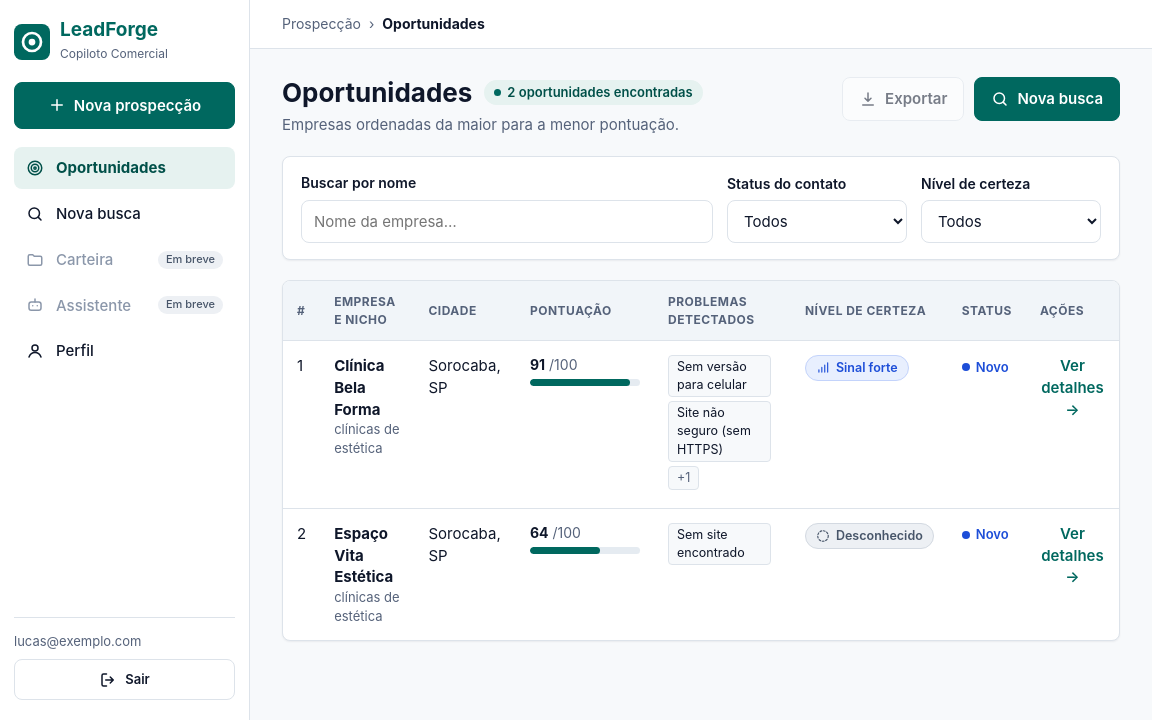
it: tela Oportunidades › abre o detalhe com as evidências e o aviso sobre itens desconhecidos
Step 1. Click the button with aria-label "Ver detalhes de Espaço Vita Estética" → (1072, 555), box top-left (1040, 523), bottom-right (1105, 588)
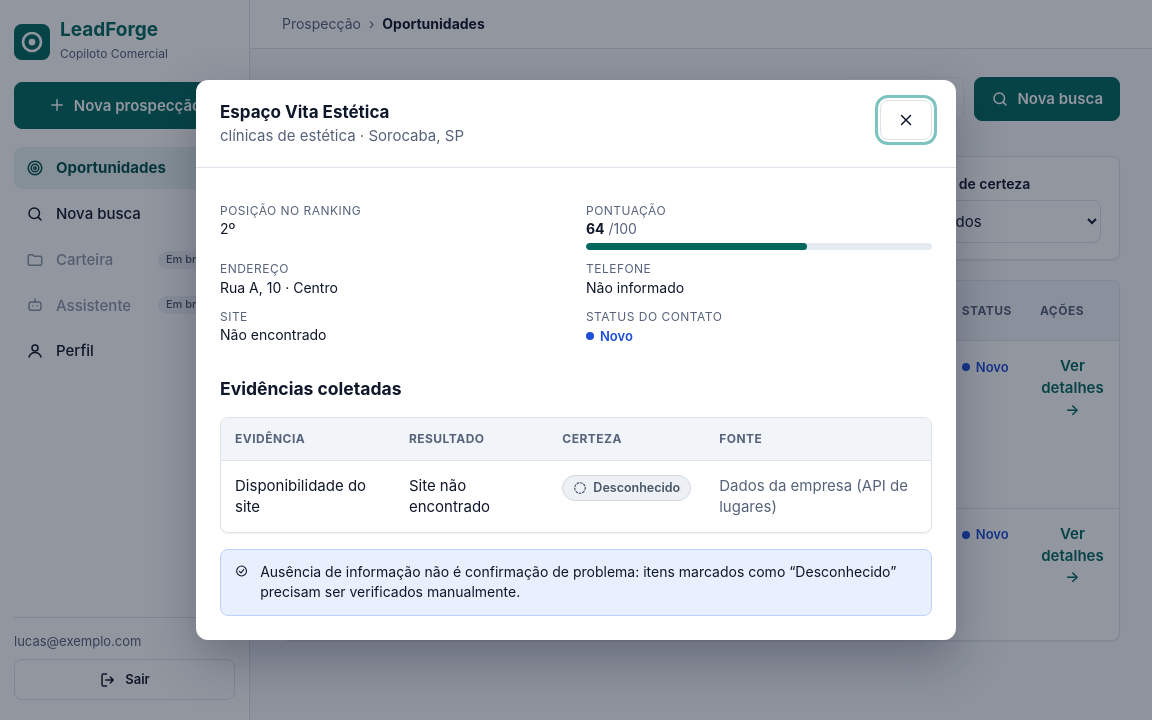
Result: the text "Site não encontrado" is shown at top-left (395, 460), bottom-right (548, 532)
Result: the text "Ausência de informação não é confirmação de problema" is shown at top-left (260, 563), bottom-right (896, 600)
Step 2. Press Escape
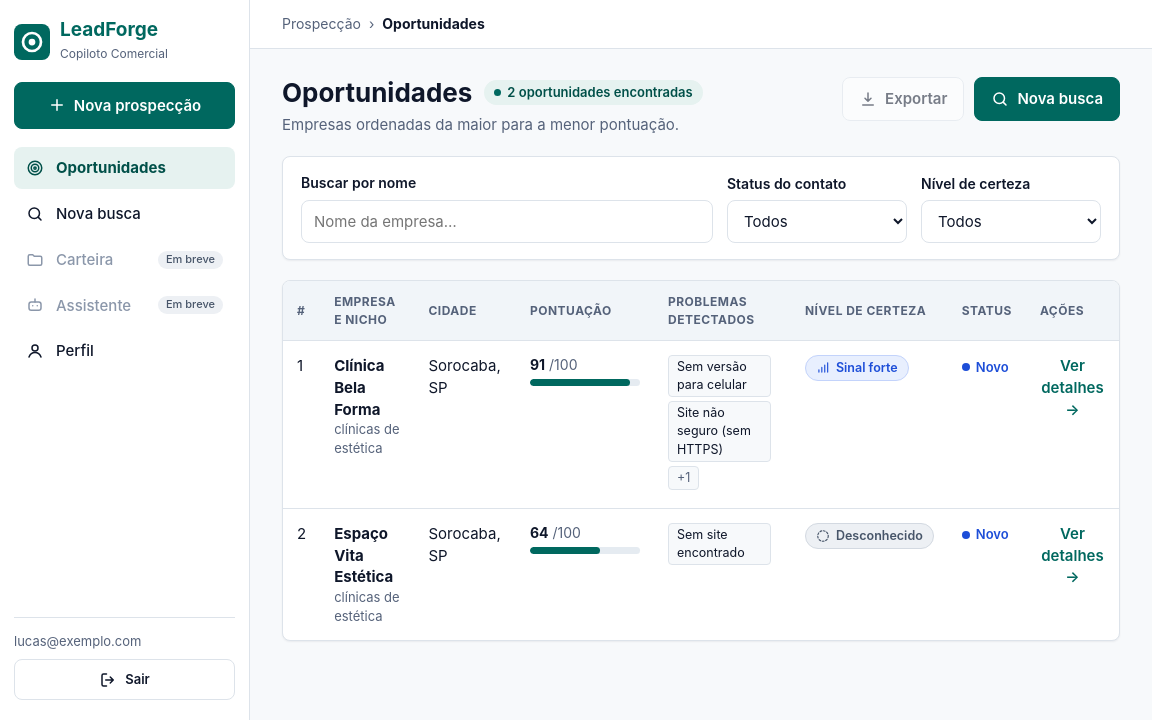
Result: the dialog is gone
